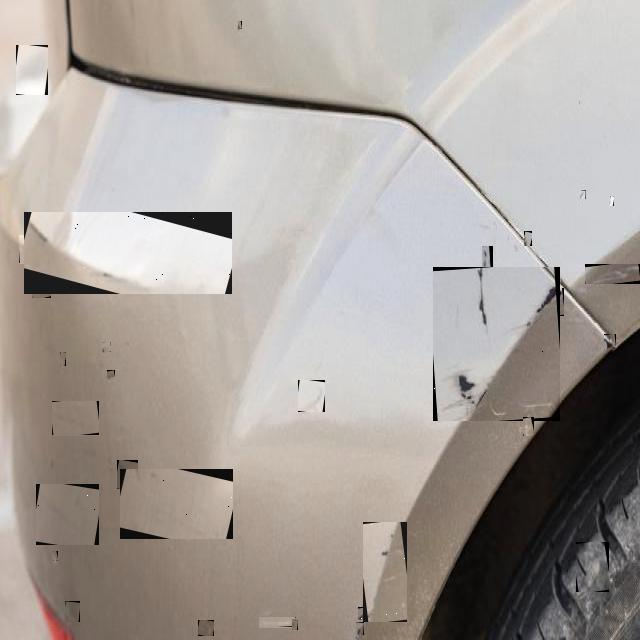Dent: (433, 267, 560, 421), (24, 212, 232, 294), (120, 469, 233, 539), (363, 522, 407, 622), (36, 484, 99, 545), (52, 402, 99, 438), (576, 542, 609, 592), (16, 45, 48, 95), (98, 267, 166, 285), (585, 264, 640, 284), (19, 236, 49, 266), (482, 246, 493, 326), (298, 380, 325, 412), (504, 320, 538, 343), (539, 288, 564, 316), (117, 460, 138, 489), (52, 224, 68, 262), (512, 400, 552, 412), (456, 370, 474, 395), (259, 618, 296, 630), (65, 601, 80, 622), (32, 282, 51, 298), (198, 620, 214, 636), (523, 417, 534, 436), (488, 402, 504, 415), (604, 334, 616, 350), (358, 607, 370, 620), (384, 571, 399, 581), (524, 231, 532, 246), (356, 622, 364, 635), (60, 352, 66, 366), (103, 342, 111, 352), (110, 273, 121, 279), (145, 475, 153, 483), (292, 620, 298, 630), (385, 548, 393, 555), (107, 370, 115, 377), (53, 551, 58, 561), (581, 190, 586, 199), (610, 196, 614, 206), (238, 21, 242, 29)
